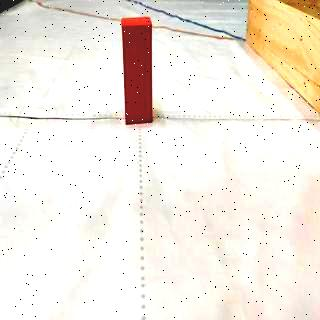redbox: (122, 16, 154, 126)
